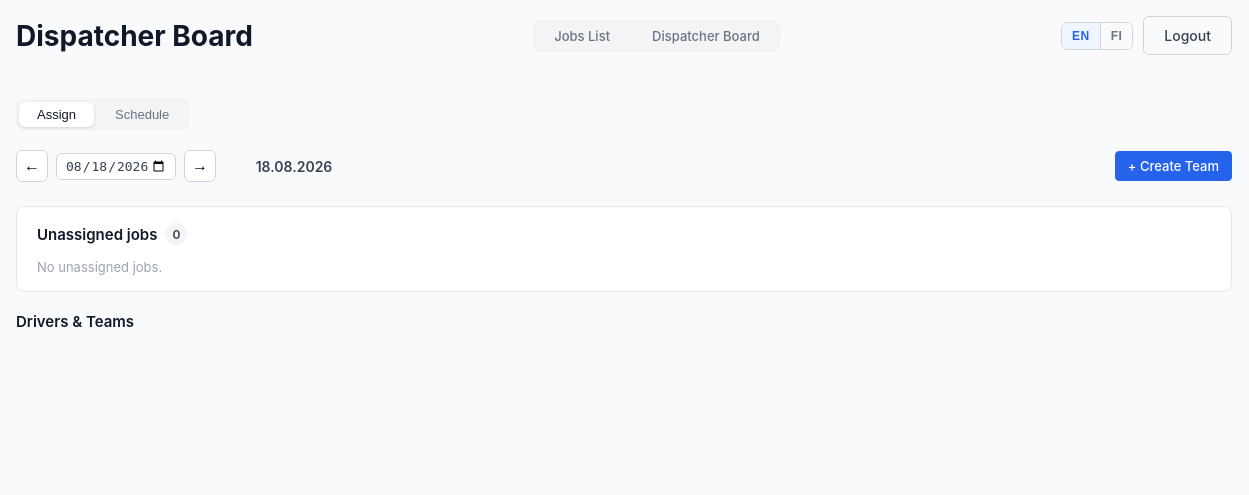
it: DispatcherBoard — Schedule view day header click › keeps the Assign/Schedule toggle working as before
The width and height of the screenshot is (1249, 495).
Expected: the button "+ Create Team" is shown, x1=1115 y1=151 x2=1232 y2=181
Click the button "Schedule".
click(142, 114)  # box x1=97 y1=102 x2=187 y2=127
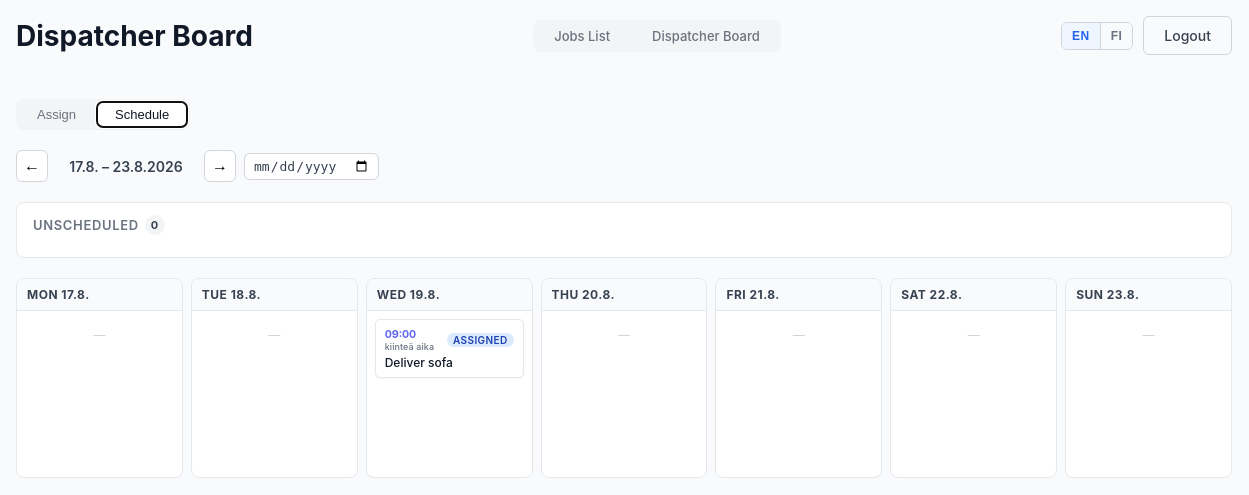
Expected: the button named "Next week" is shown, x1=204 y1=150 x2=236 y2=182
Expected: the button "+ Create Team" is gone
Click the button "Assign".
click(56, 114)  # box x1=19 y1=102 x2=94 y2=127
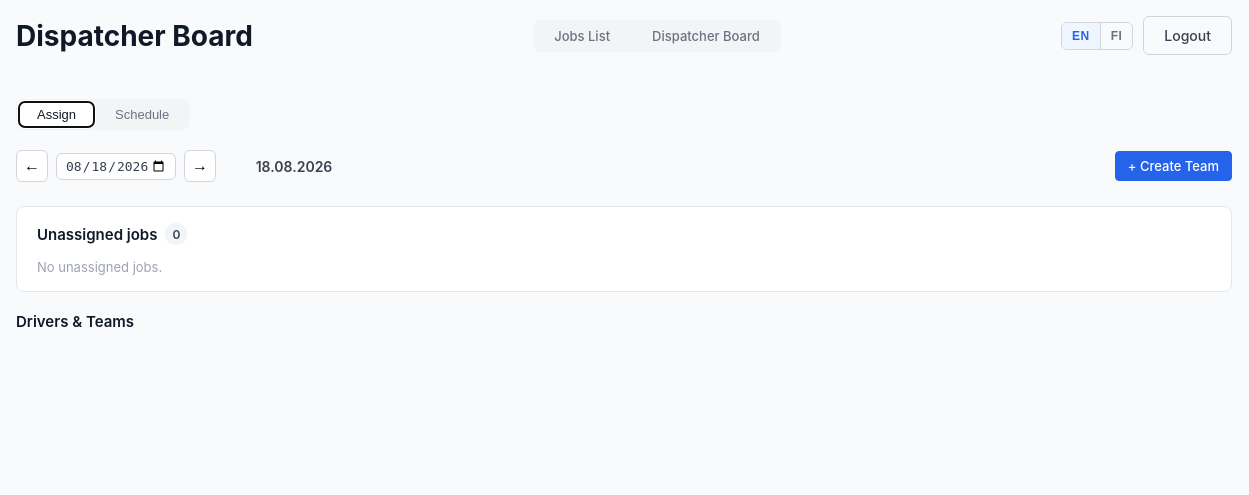
Expected: the button "+ Create Team" is shown, x1=1115 y1=151 x2=1232 y2=181
